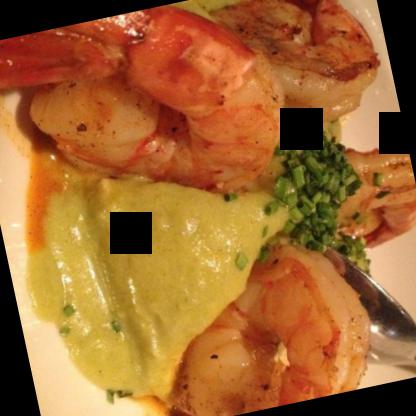shrimp: (0, 0, 308, 240), (140, 223, 381, 415), (201, 0, 394, 147)
